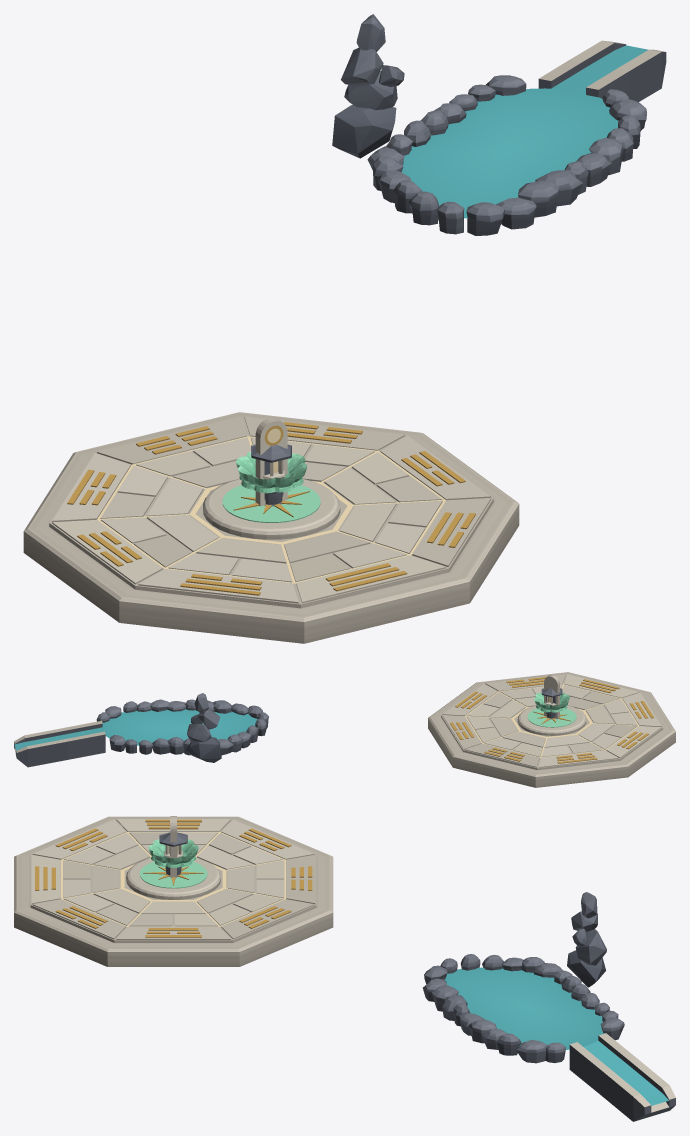
The model's file is StartingIsland_Props.fbx.
The picture shows the model from 3 angles, top to bottom: view 1: azimuth 30°, elevation 25°; view 2: azimuth 150°, elevation 25°; view 3: azimuth 270°, elevation 25°; orthographic projection. The views are drawn at different scales.
Visible parts, largest first — view 1: SI_QiCompass, SI_SpringWater, SI_SpringRim, SI_SpringRock, SI_SpringSpillway, SI_QiCompassGlow, SI_EggPedestal, SI_Waystone; view 2: SI_QiCompass, SI_SpringWater, SI_SpringRim, SI_SpringSpillway, SI_SpringRock, SI_QiCompassGlow, SI_EggPedestal, SI_Waystone, SI_StoneLantern; view 3: SI_QiCompass, SI_SpringWater, SI_SpringRim, SI_SpringSpillway, SI_SpringRock, SI_QiCompassGlow, SI_EggPedestal.
Boxes of the visible parts, box(x1,y1,x2,y2) form: SI_QiCompass: box(23, 412, 519, 643); SI_SpringWater: box(401, 45, 648, 218); SI_SpringRim: box(367, 75, 646, 235); SI_SpringRock: box(332, 14, 404, 158); SI_SpringSpillway: box(538, 40, 666, 102); SI_QiCompassGlow: box(97, 436, 445, 583); SI_EggPedestal: box(235, 451, 307, 506); SI_Waystone: box(255, 417, 287, 506); SI_QiCompass: box(428, 672, 675, 787); SI_SpringWater: box(14, 709, 257, 750); SI_SpringRim: box(96, 699, 268, 755); SI_SpringSpillway: box(14, 720, 105, 767); SI_SpringRock: box(185, 693, 221, 762); SI_QiCompassGlow: box(465, 684, 639, 757); SI_EggPedestal: box(534, 692, 569, 719); SI_Waystone: box(544, 674, 559, 719); SI_StoneLantern: box(541, 688, 562, 705); SI_QiCompass: box(14, 816, 333, 966); SI_SpringWater: box(444, 967, 668, 1105); SI_SpringRim: box(423, 954, 624, 1063); SI_SpringSpillway: box(569, 1033, 675, 1121); SI_SpringRock: box(567, 892, 606, 987); SI_QiCompassGlow: box(61, 832, 285, 926); SI_EggPedestal: box(148, 839, 198, 876).
Size of the model in its own units: 85.58 by 19.27 by 75.9.
Materials: 1 (1 with a texture image).
